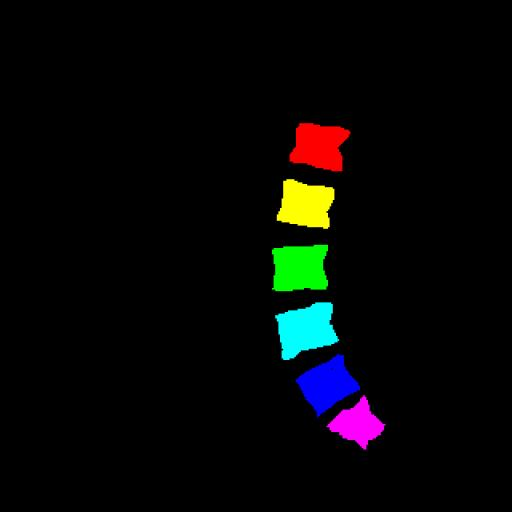L1: (290, 123, 350, 170)
L2: (277, 179, 334, 229)
L3: (272, 245, 328, 291)
L4: (275, 302, 339, 360)
L5: (296, 354, 360, 416)
S1: (327, 396, 385, 450)
